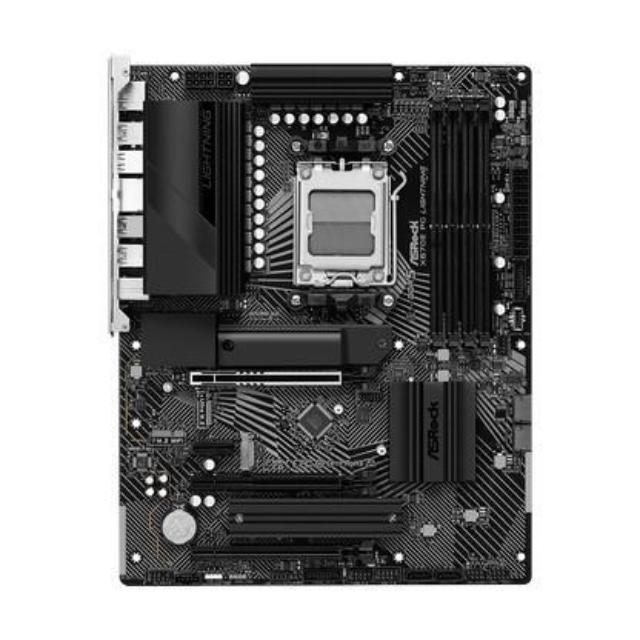Mainboard: (96, 50, 544, 592)
